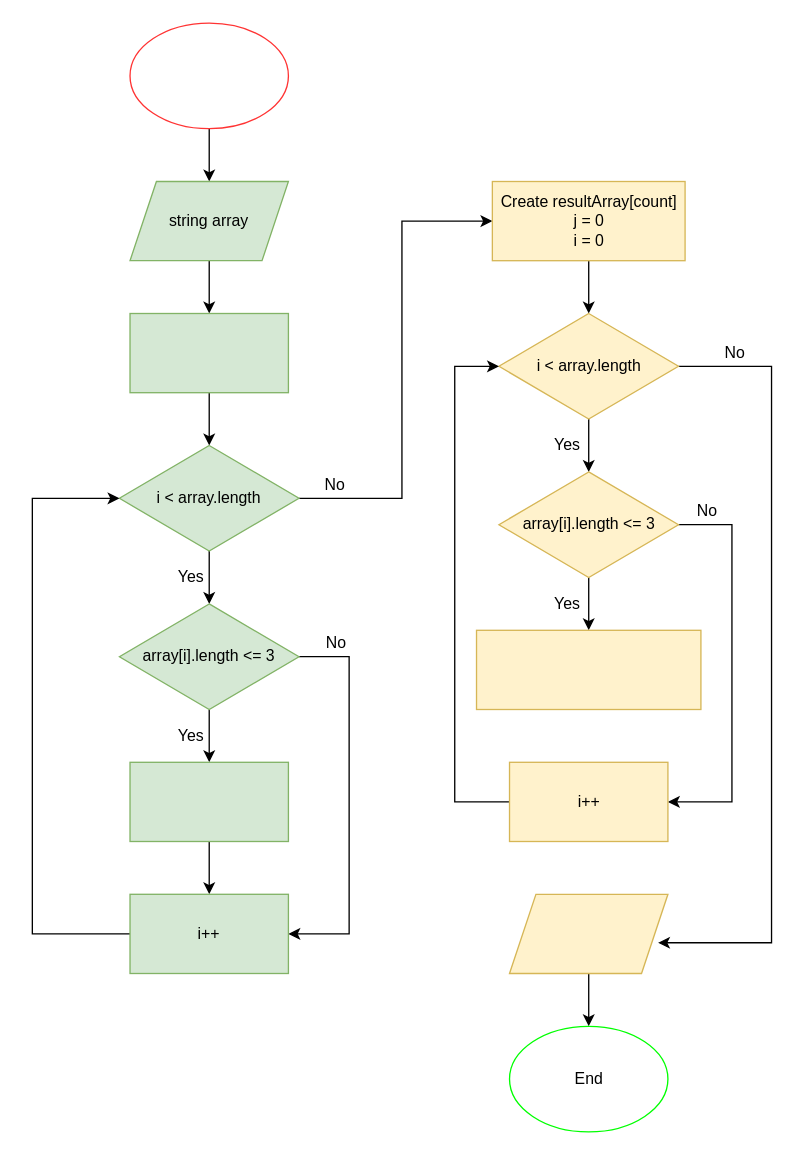
Image size: 805x1155. Some labels were removed from this diagram. The centre of each missing label's shape, as x and y in pixels:
count++: (x=208, y=801)
i = 0 count = 0: (x=208, y=352)
resultArray: (x=588, y=933)
resultArray[j] = array[i] j++: (x=588, y=669)
Start: (x=208, y=75)
